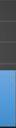bar: (0, 66, 16, 74)
